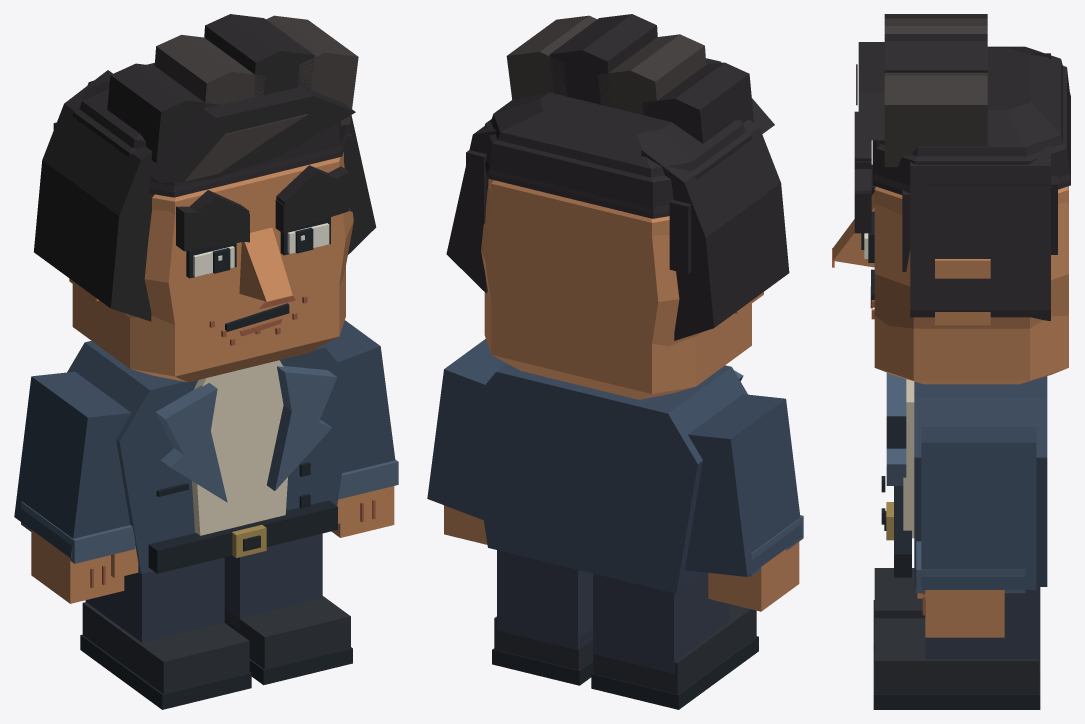
Rendered from actor-empire-character.glb.
3 renders of one model, left to right at view 1: azimuth 30°, elevation 25°; view 2: azimuth 150°, elevation 25°; view 3: azimuth 270°, elevation 25°, orthographic. The views are drawn at different scales.
Visible parts, largest first — view 1: Head square, Swept left lock, Jacket silhouette, Sleeve L, Head round, Shirt panel, Swept fringe, Boot L, Trouser L, Trouser R, Sleeve R, Boot R (+28 smaller); view 2: Jacket silhouette, Head round, Head square, Swept left lock, Sleeve L, Swept crown, Trouser L, Trouser R, Crop crown, Sleeve R, Crop quiff 2, Crop quiff 0 (+12 smaller); view 3: Swept right lock, Sleeve R, Head square, Swept crown, Jacket silhouette, Crop quiff 3, Boot R, Head round, Trouser R, Crop quiff 2, Hand R, Crop crown (+16 smaller).
Part boxes in pixels (x1=…): Head square: x1=72, y1=152, x2=345, y2=382; Swept left lock: x1=34, y1=70, x2=154, y2=321; Jacket silhouette: x1=67, y1=341, x2=355, y2=573; Sleeve L: x1=14, y1=371, x2=131, y2=558; Head round: x1=124, y1=159, x2=353, y2=358; Shirt panel: x1=192, y1=360, x2=287, y2=535; Swept fringe: x1=143, y1=87, x2=355, y2=182; Boot L: x1=82, y1=602, x2=249, y2=693; Trouser L: x1=85, y1=557, x2=224, y2=642; Trouser R: x1=224, y1=533, x2=322, y2=629; Sleeve R: x1=323, y1=320, x2=395, y2=472; Boot R: x1=224, y1=596, x2=350, y2=669; Jacket silhouette: x1=466, y1=363, x2=747, y2=593; Head round: x1=481, y1=180, x2=700, y2=377; Head square: x1=484, y1=179, x2=751, y2=399; Swept left lock: x1=641, y1=119, x2=789, y2=340; Sleeve L: x1=685, y1=394, x2=802, y2=576; Swept crown: x1=485, y1=92, x2=745, y2=213; Trouser L: x1=593, y1=572, x2=729, y2=673; Trouser R: x1=497, y1=550, x2=592, y2=650; Crop crown: x1=485, y1=119, x2=751, y2=218; Sleeve R: x1=427, y1=339, x2=506, y2=519; Crop quiff 2: x1=549, y1=14, x2=657, y2=106; Crop quiff 0: x1=642, y1=62, x2=753, y2=143; Swept right lock: x1=910, y1=144, x2=1050, y2=320; Sleeve R: x1=921, y1=427, x2=1036, y2=589; Head square: x1=874, y1=186, x2=1068, y2=384; Swept crown: x1=872, y1=46, x2=1070, y2=192; Jacket silhouette: x1=914, y1=376, x2=1047, y2=586; Crop quiff 3: x1=884, y1=72, x2=987, y2=166; Boot R: x1=874, y1=618, x2=1039, y2=693; Head round: x1=874, y1=186, x2=1068, y2=328; Trouser R: x1=925, y1=587, x2=1040, y2=670; Crop quiff 2: x1=884, y1=34, x2=987, y2=72; Hand R: x1=925, y1=590, x2=1004, y2=637; Crop crown: x1=872, y1=65, x2=1070, y2=194.
Bounding box in the file's own units: 1.94 × 3.54 × 1.2.
